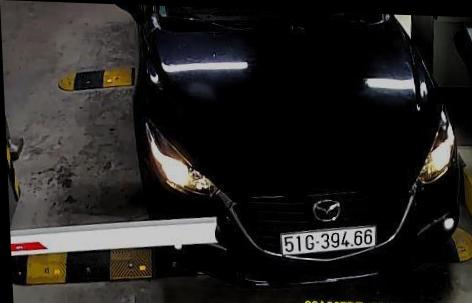License_Plate: (277, 221, 384, 261)
